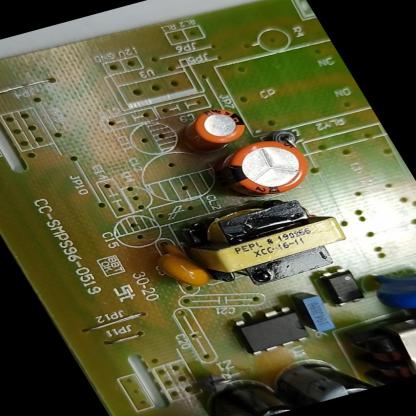Cap1: (200, 124, 340, 208)
Cap2: (154, 94, 257, 158)
Cap3: (256, 346, 387, 412)
Cap4: (188, 354, 319, 416)
MOSFET: (220, 296, 324, 364)
Mov: (360, 249, 416, 326)
Transformer: (149, 181, 371, 304), (330, 302, 416, 389)
